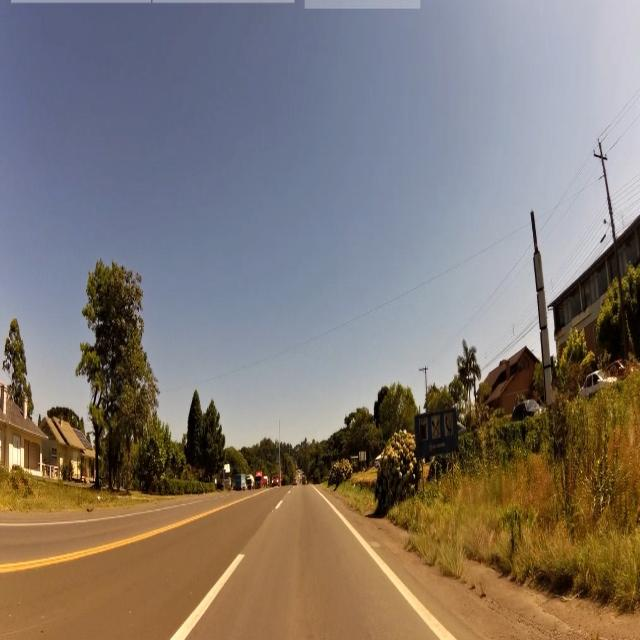LOC-6: (417, 412, 458, 458)
